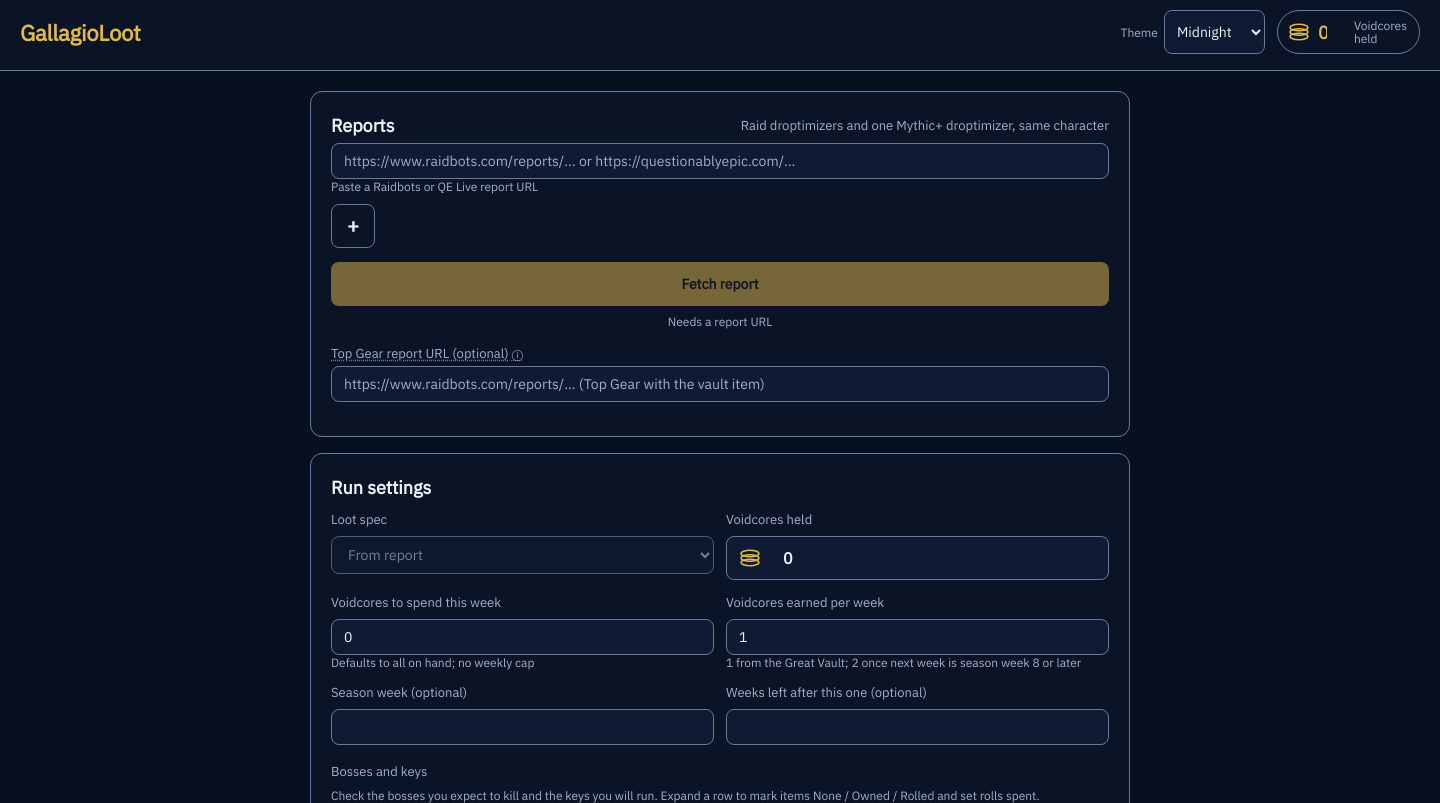
it: multi-report flow › prices across both reports and names the M+ target with its verb
Replace the text in the field with id "report-url" with "https://www.raidbots.com/simbot/report/6PTZ7TjgU8PdxJhZ97bMUa". click: (720, 161)
box: [331,143,1109,179]
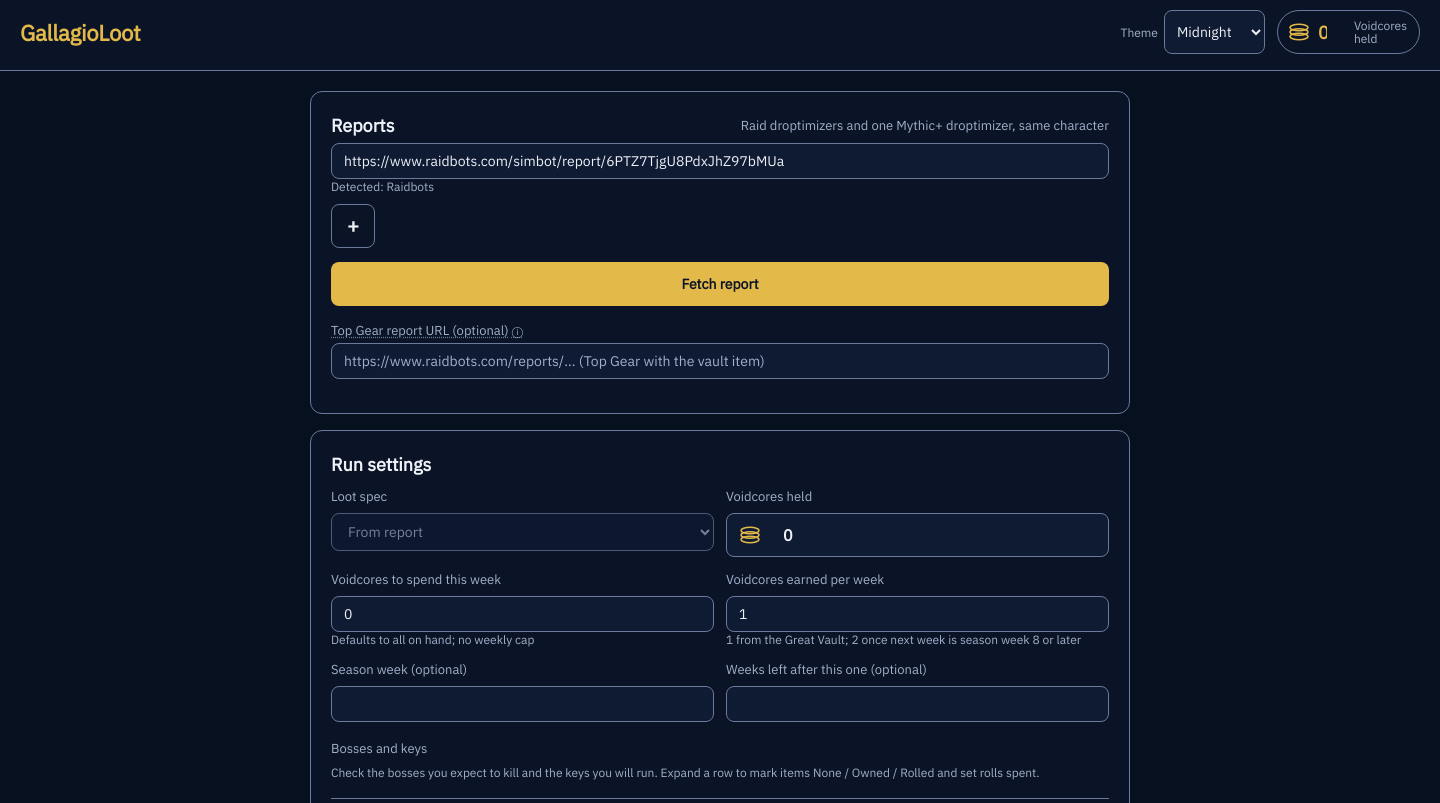
Click the button "Fetch report". click: (720, 284)
box: [331,262,1109,306]
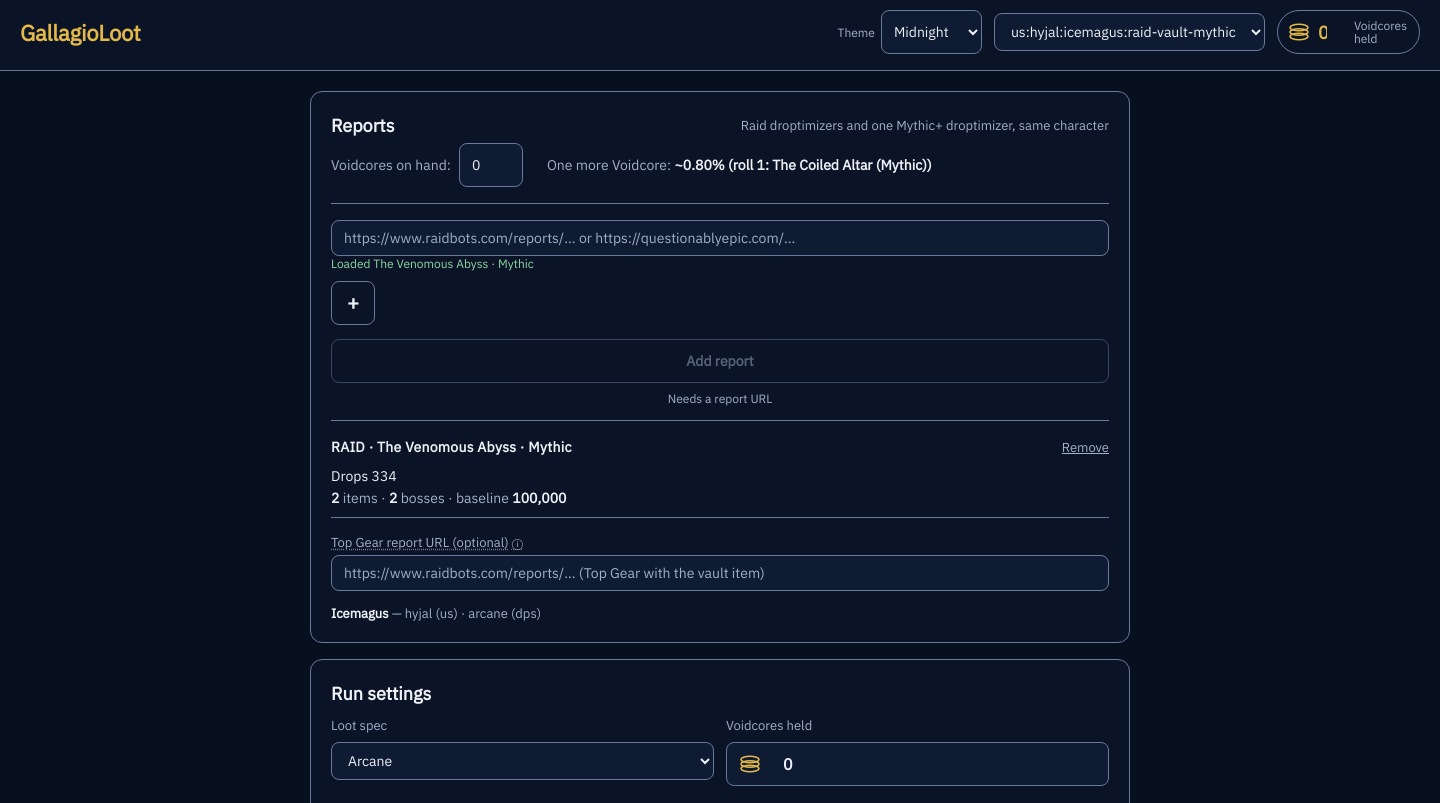
Replace the text in the field with id "report-url" with "https://www.raidbots.com/simbot/report/a8URThoNZqEXDW3tBtavHq". click: (720, 238)
box: [331,220,1109,256]
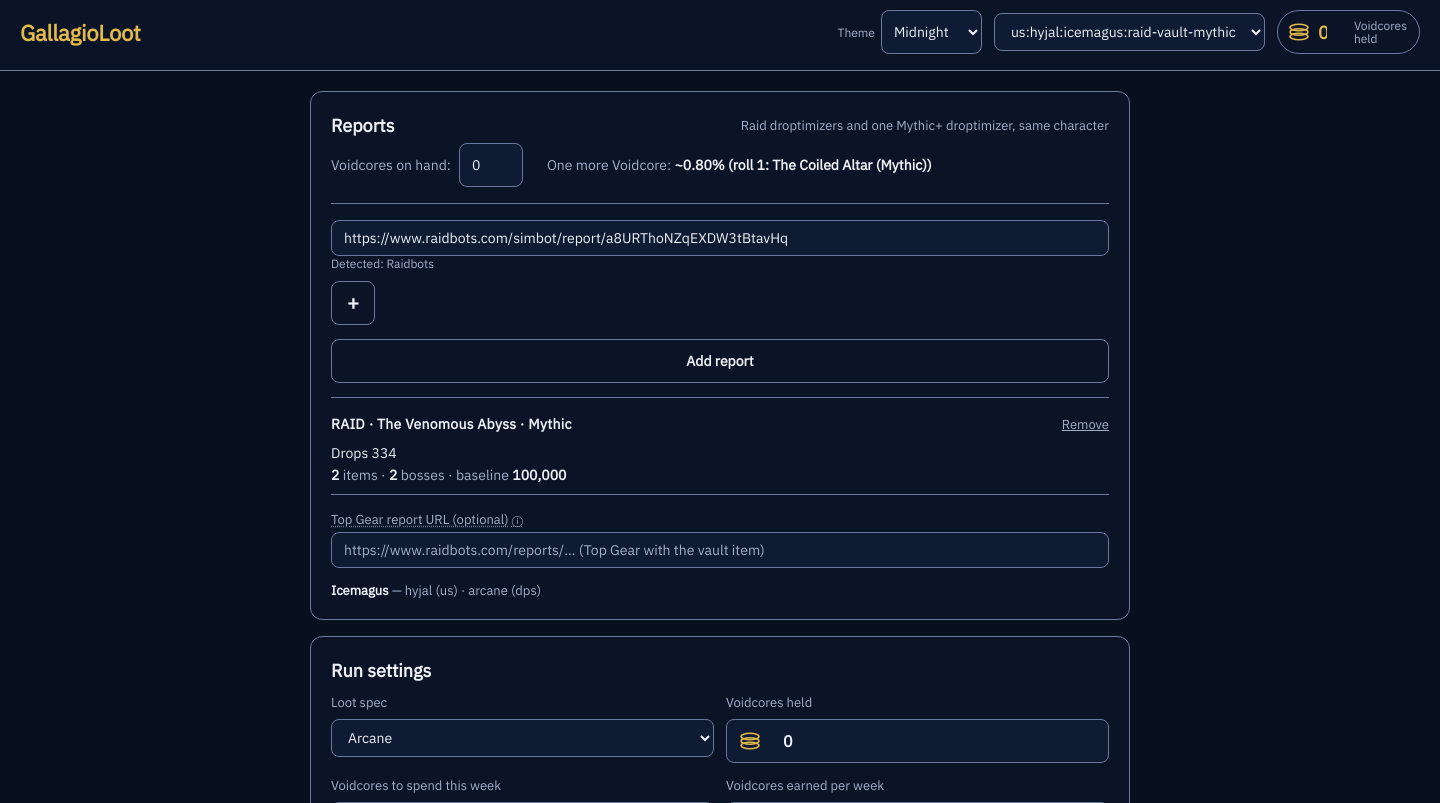
Click the button "Add report". click: (720, 361)
box: [331,339,1109,383]
(page scrolled)
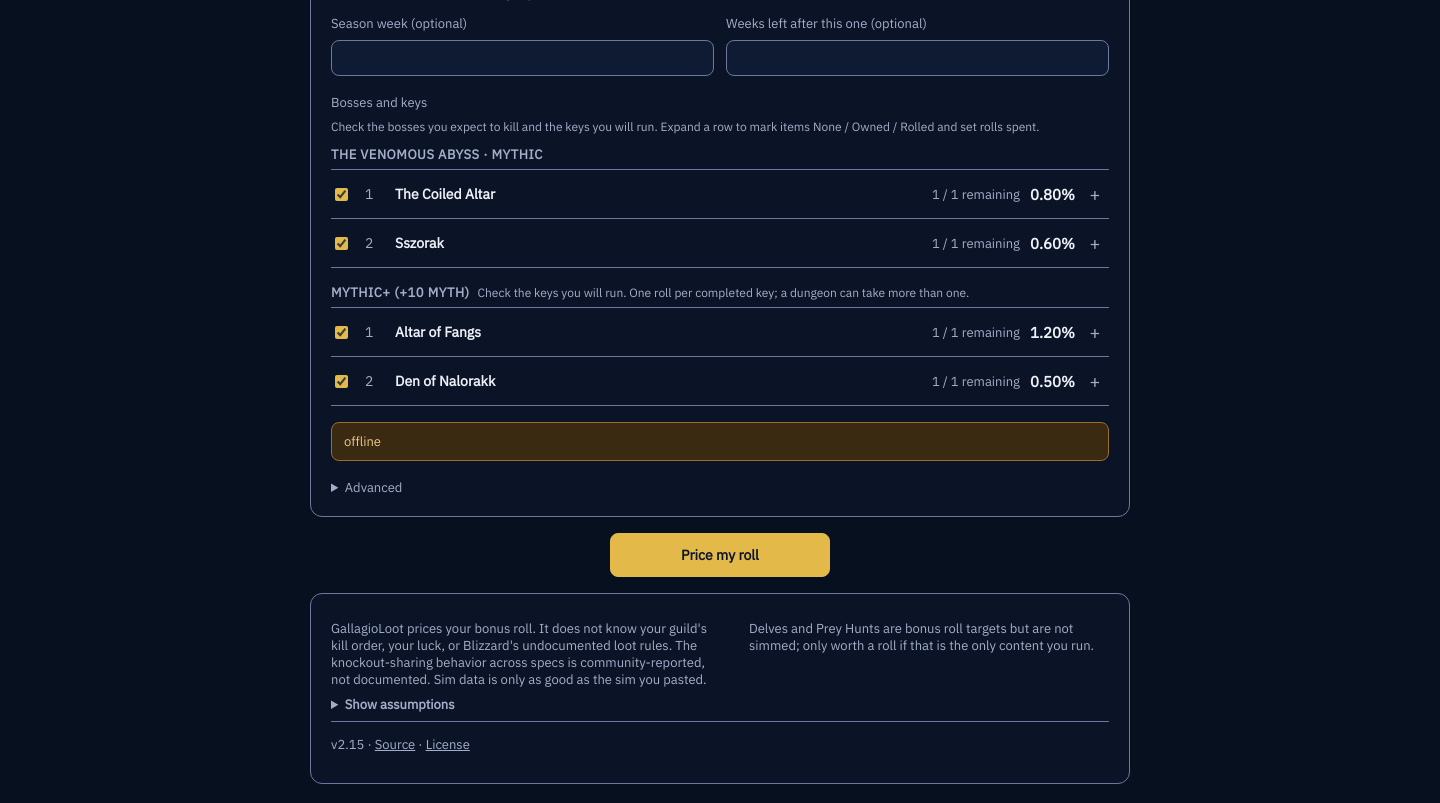
Click the button "Price my roll". click: (720, 555)
box: [610,533,830,577]
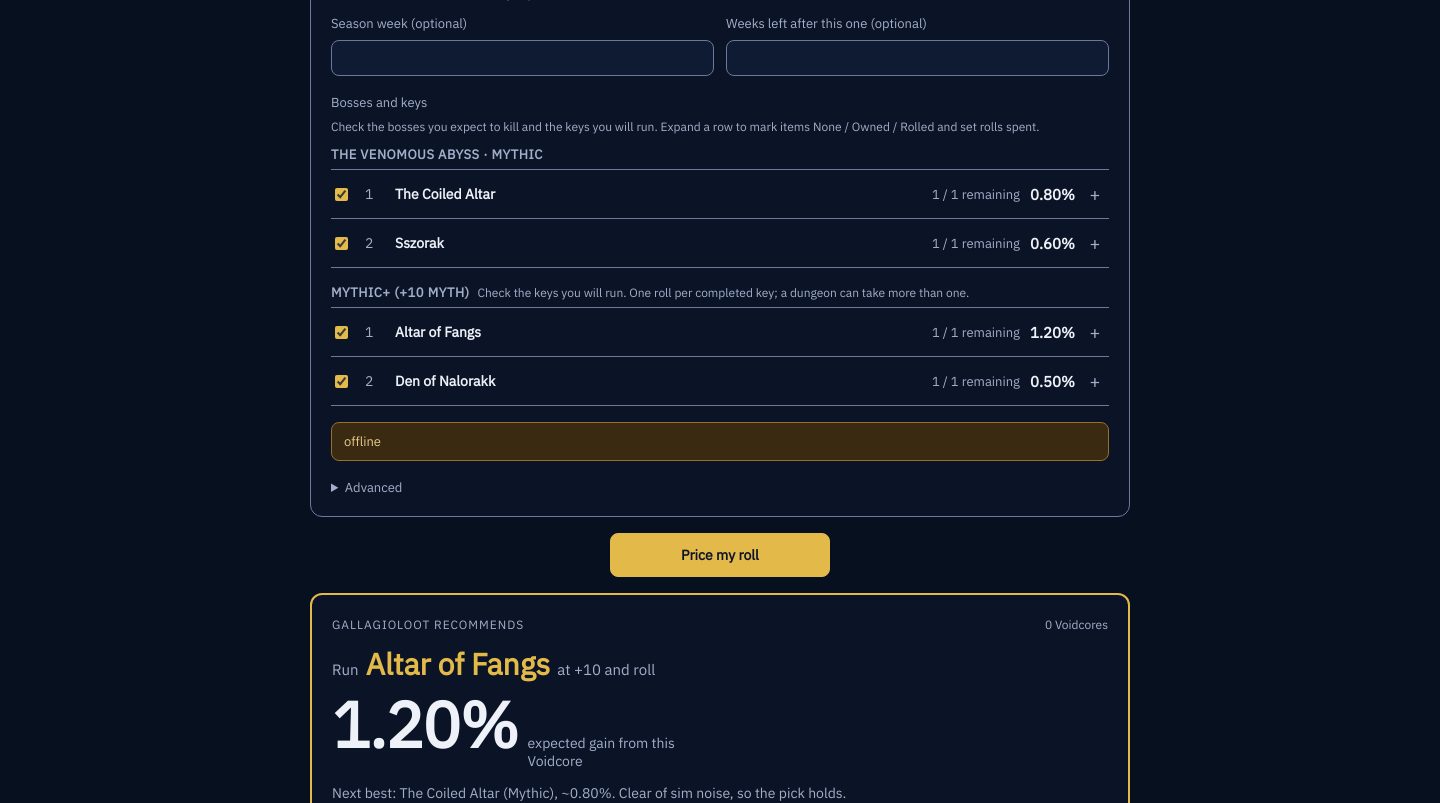
Now the heading with class "rec-card__headline" reads "Run Altar of Fangs at +10 and roll", box [332,644,655,683]
